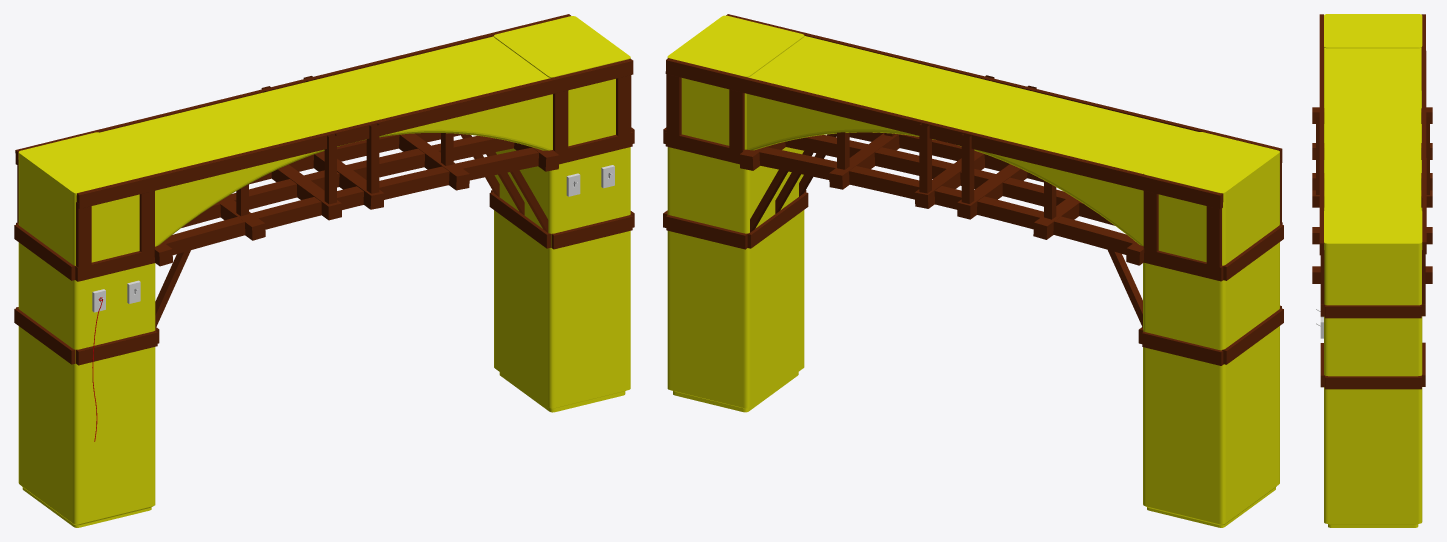
File: doorway 1.fbx
3 views of the same model, side by side, from view 1: azimuth 30°, elevation 25°; view 2: azimuth 150°, elevation 25°; view 3: azimuth 270°, elevation 25° (orthographic). The views are drawn at different scales.
Parts seen in each view (by area): view 1: polySurface98, polySurface100, polySurface99, polySurface101, polySurface126, polySurface127, polySurface141, polySurface128, polySurface112, polySurface110, polySurface120, polySurface106 (+14 smaller); view 2: polySurface98, polySurface100, polySurface99, polySurface141, polySurface128, polySurface127, polySurface101, polySurface126, polySurface148, polySurface157, polySurface120, polySurface147 (+14 smaller); view 3: polySurface100, polySurface99, polySurface98, polySurface114, polySurface109, polySurface101, polySurface141, polySurface124, polySurface121, polySurface120, polySurface105, polySurface117 (+5 smaller).
Boxes of the visible parts, left/top/right/bottom form: polySurface98: left=18, top=132, right=155, bottom=527; polySurface100: left=494, top=16, right=630, bottom=412; polySurface99: left=100, top=36, right=552, bottom=246; polySurface101: left=76, top=58, right=633, bottom=208; polySurface126: left=163, top=147, right=538, bottom=255; polySurface127: left=181, top=135, right=514, bottom=227; polySurface141: left=15, top=14, right=570, bottom=165; polySurface128: left=249, top=133, right=463, bottom=184; polySurface112: left=551, top=214, right=632, bottom=249; polySurface110: left=76, top=330, right=157, bottom=365; polySurface120: left=399, top=133, right=469, bottom=190; polySurface106: left=75, top=249, right=154, bottom=281; polySurface98: left=1143, top=132, right=1279, bottom=527; polySurface100: left=667, top=15, right=804, bottom=412; polySurface99: left=746, top=36, right=1198, bottom=245; polySurface141: left=665, top=58, right=1223, bottom=209; polySurface128: left=759, top=147, right=1135, bottom=254; polySurface127: left=785, top=135, right=1114, bottom=225; polySurface101: left=726, top=14, right=1282, bottom=162; polySurface126: left=834, top=132, right=1043, bottom=182; polySurface148: left=666, top=215, right=747, bottom=249; polySurface157: left=1142, top=331, right=1223, bottom=365; polySurface120: left=829, top=133, right=899, bottom=189; polySurface147: left=1143, top=249, right=1223, bottom=281; polySurface100: left=1324, top=210, right=1422, bottom=527; polySurface99: left=1324, top=47, right=1421, bottom=210; polySurface98: left=1324, top=14, right=1422, bottom=210; polySurface114: left=1325, top=375, right=1421, bottom=389; polySurface109: left=1325, top=305, right=1421, bottom=318; polySurface101: left=1319, top=14, right=1323, bottom=255; polySurface141: left=1421, top=14, right=1426, bottom=254; polySurface124: left=1312, top=266, right=1432, bottom=283; polySurface121: left=1312, top=190, right=1432, bottom=207; polySurface120: left=1312, top=227, right=1432, bottom=244; polySurface105: left=1320, top=250, right=1324, bottom=304; polySurface117: left=1316, top=134, right=1319, bottom=194.
Bounding box in the file's own units: 17.88 × 10.25 × 3.9.
